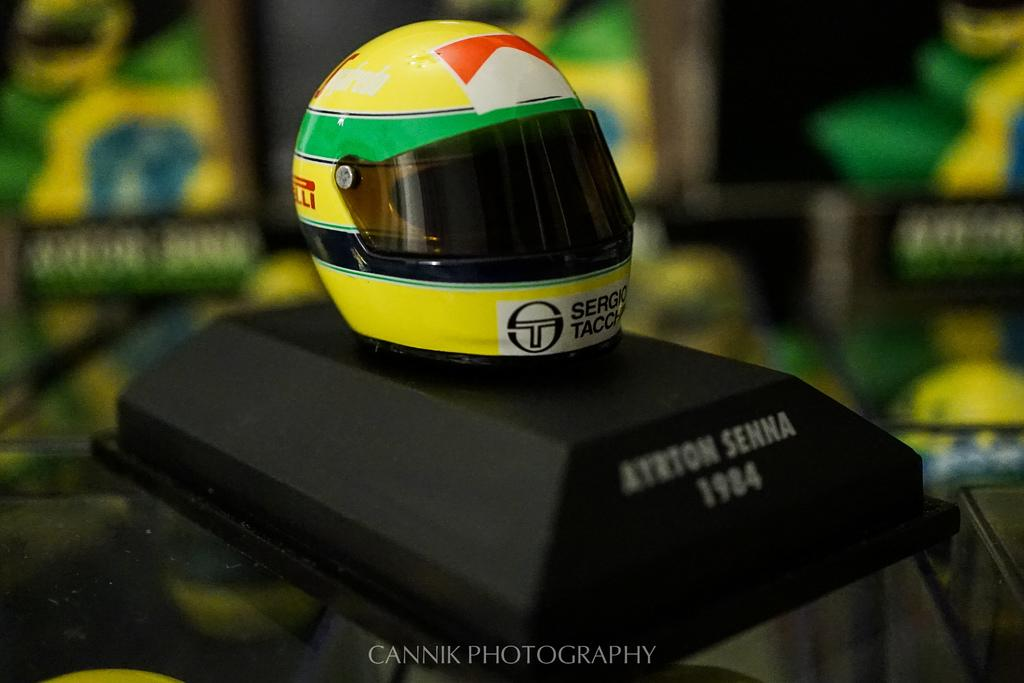helmet: (292, 20, 636, 366), (16, 0, 129, 96)
